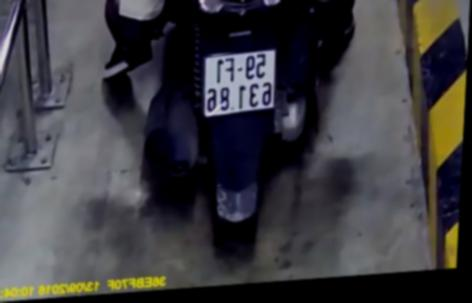License_Plate: (195, 42, 289, 125)
